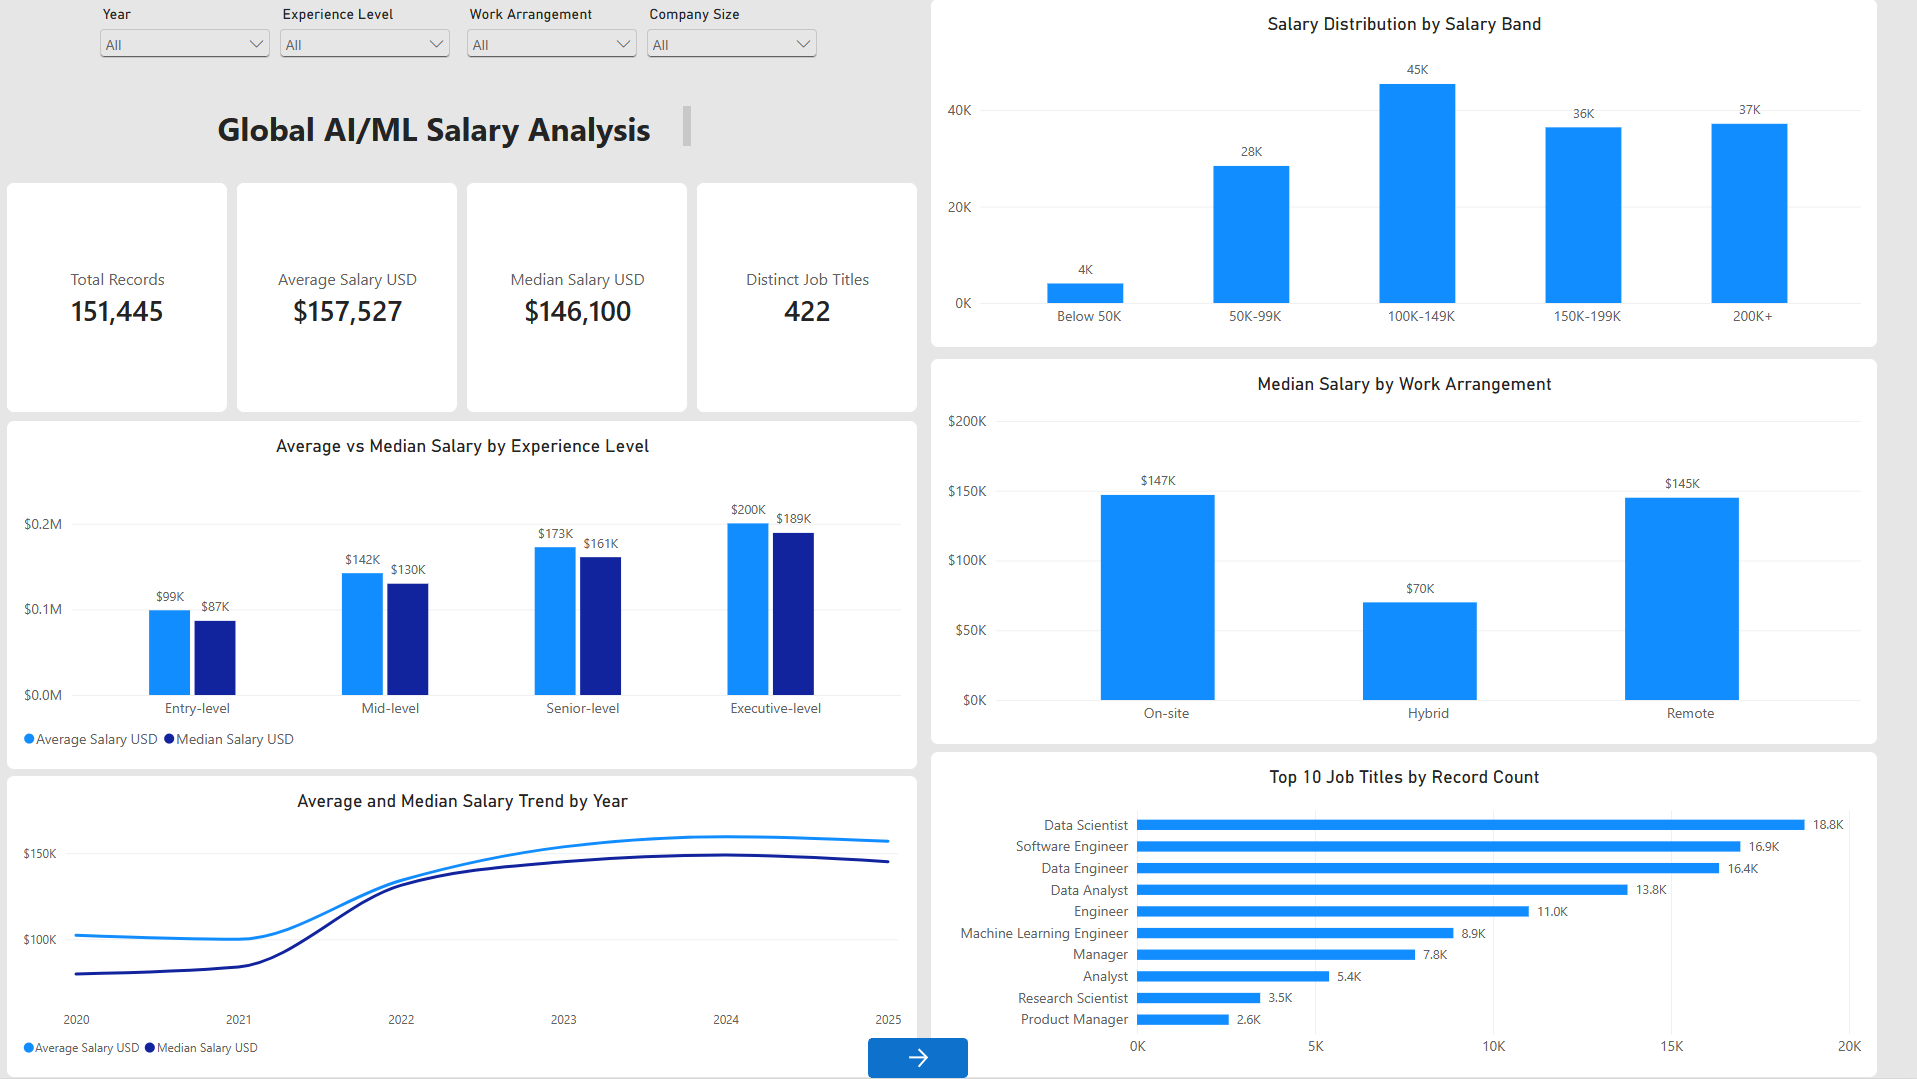

What the dashboard file says about the page in this screenshot:
{"tool":"powerbi","page":{"name":"Overview","canvas":[1920,1080],"ordinal":0},"visuals":[{"type":"cardVisual","fields":{"Data":["Salary Analysis.Total Records","Salary Analysis.Average Salary USD","Salary Analysis.Median Salary USD","Salary Analysis.Distinct Job Titles"]},"box":[8.2,183.6,911.8,231.8],"z":0},{"type":"clusteredColumnChart","title":"Average vs Median Salary by Experience Level","fields":{"Category":["Salary Analysis.experience_level_label"],"Y":["Salary Analysis.Average Salary USD","Salary Analysis.Median Salary USD"]},"box":[8.2,421.8,911.8,350],"z":1},{"type":"lineChart","title":"Average and Median Salary Trend by Year","fields":{"Category":["Salary Analysis.work_year"],"Y":["Salary Analysis.Average Salary USD","Salary Analysis.Median Salary USD"]},"box":[8.3,776.7,911.7,303.3],"z":2},{"type":"clusteredBarChart","title":"Top 10 Job Titles by Record Count","fields":{"Category":["Salary Analysis.job_title"],"Y":["Salary Analysis.Total Records"]},"box":[931.7,753.3,948.3,326.7],"z":3},{"type":"clusteredColumnChart","title":"Median Salary by Work Arrangement","fields":{"Category":["Salary Analysis.remote_type"],"Y":["Salary Analysis.Median Salary USD"]},"box":[931.7,360,948.3,386.7],"z":4},{"type":"clusteredColumnChart","title":"Salary Distribution by Salary Band","fields":{"Category":["Salary Analysis.salary_band"],"Y":["Salary Analysis.Total Records"]},"box":[931.7,0,948.3,350],"z":5},{"type":"slicer","fields":{"Values":["Salary Analysis.work_year"]},"box":[97.2,7.8,180,65],"z":6},{"type":"slicer","fields":{"Values":["Salary Analysis.experience_level_label"]},"box":[277.2,7.8,180,65],"z":7},{"type":"slicer","fields":{"Values":["Salary Analysis.remote_type"]},"box":[463.9,7.8,180,65],"z":8},{"type":"slicer","fields":{"Values":["Salary Analysis.company_size_label"]},"box":[643.9,7.8,180,65],"z":9},{"type":"textbox","box":[188.5,107.7,505,50],"z":10},{"type":"actionButton","box":[870,1040,100,40],"z":11}]}

Visuals, with their boxes in screenshot pixels (x1, y1, x2, y2), scaled from the page's 1920x1080 canvas onto the 1917x1079 screenshot:
cardVisual - Salary Analysis.Total Records x Salary Analysis.Average Salary USD: <region>8, 183, 919, 415</region>
"Average vs Median Salary by Experience Level" clusteredColumnChart: <region>8, 421, 919, 771</region>
"Average and Median Salary Trend by Year" lineChart: <region>8, 776, 919, 1078</region>
"Top 10 Job Titles by Record Count" clusteredBarChart: <region>930, 753, 1877, 1078</region>
"Median Salary by Work Arrangement" clusteredColumnChart: <region>930, 360, 1877, 746</region>
"Salary Distribution by Salary Band" clusteredColumnChart: <region>930, 0, 1877, 350</region>
slicer - Salary Analysis.work_year: <region>97, 8, 277, 73</region>
slicer - Salary Analysis.experience_level_label: <region>277, 8, 456, 73</region>
slicer - Salary Analysis.remote_type: <region>463, 8, 643, 73</region>
slicer - Salary Analysis.company_size_label: <region>643, 8, 823, 73</region>
textbox: <region>188, 108, 692, 158</region>
actionButton: <region>869, 1039, 968, 1078</region>
